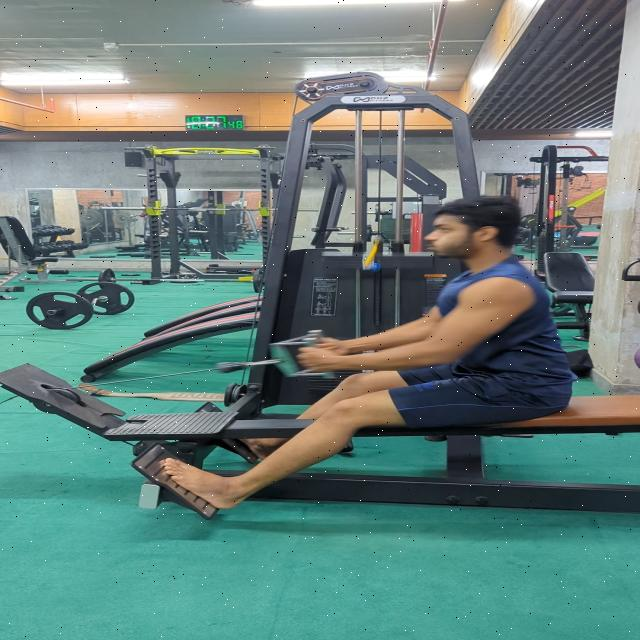Normal_RowingMachineExercise: (160, 197, 574, 509)
